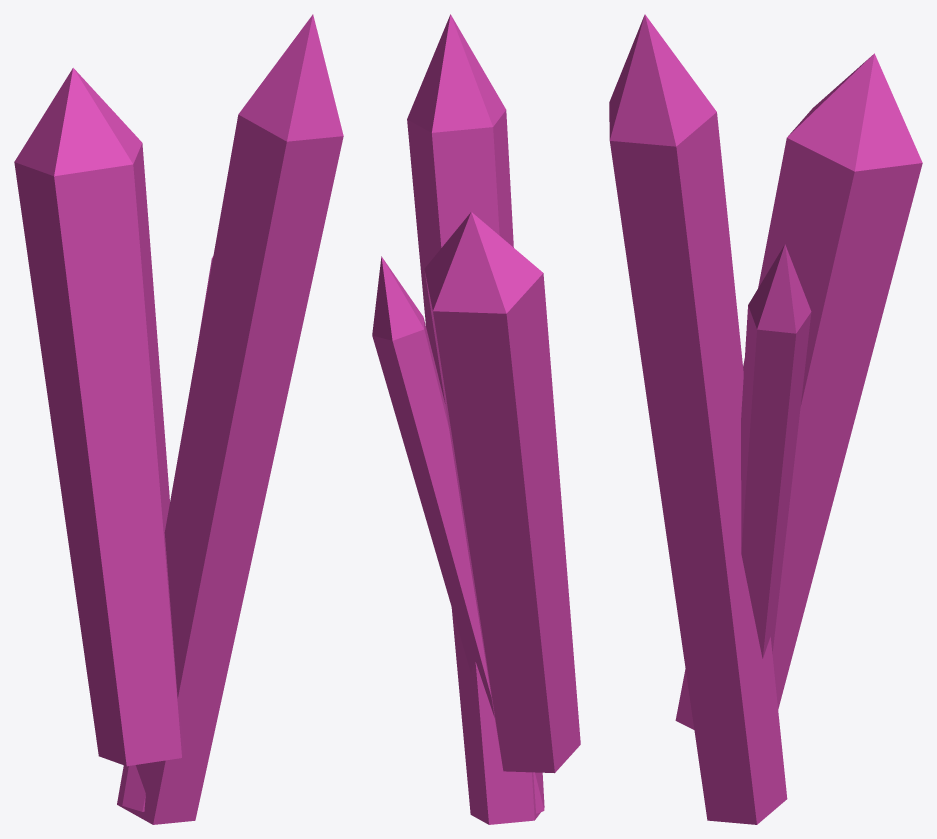
The model's file is small_crystals_18_5.fbx.
3 renders of one model, left to right at view 1: azimuth 30°, elevation 25°; view 2: azimuth 150°, elevation 25°; view 3: azimuth 270°, elevation 25°, orthographic. The views are drawn at different scales.
Parts seen in each view (by area): view 1: small crystals.027; view 2: small crystals.027; view 3: small crystals.027.
Part boxes in pixels (left/top/right/bottom): small crystals.027: left=14, top=14, right=343, bottom=824; small crystals.027: left=372, top=14, right=580, bottom=824; small crystals.027: left=609, top=14, right=922, bottom=824.
Bounding box in the file's own units: 75.86 × 277 × 92.24.
